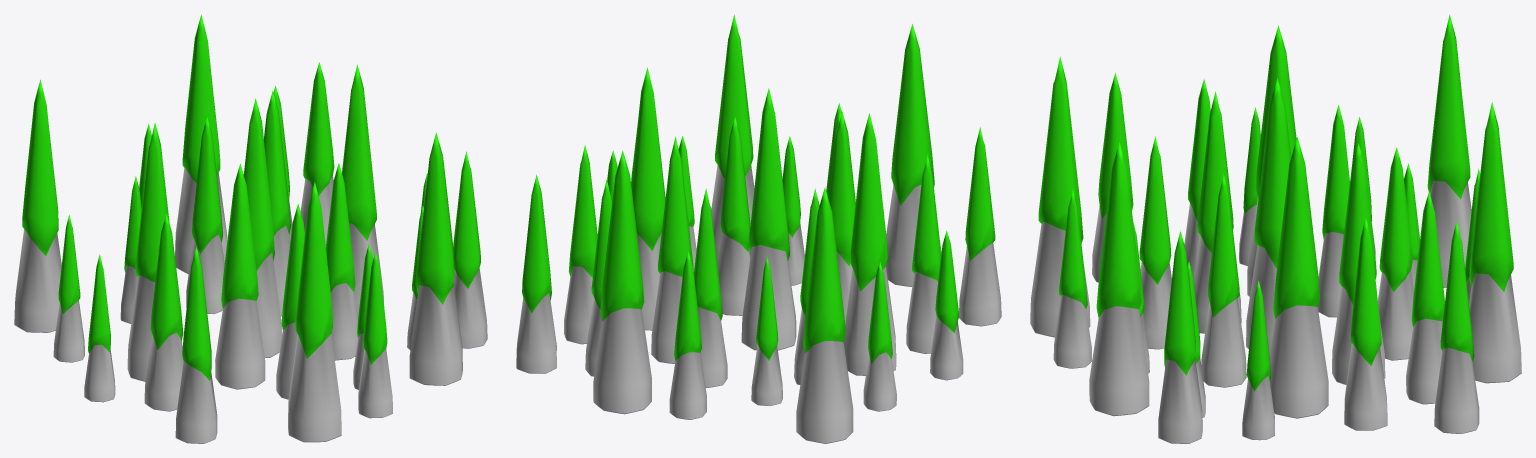
The model's file is Spikes.fbx.
3 renders of one model, left to right at view 1: azimuth 30°, elevation 25°; view 2: azimuth 150°, elevation 25°; view 3: azimuth 270°, elevation 25°, orthographic. The views are drawn at different scales.
Visible parts, largest first — view 1: Fang; view 2: Fang; view 3: Fang.
Boxes of the visible parts, bbox=[...] form: Fang: bbox=[14, 14, 487, 443]; Fang: bbox=[516, 14, 1001, 443]; Fang: bbox=[1030, 14, 1521, 443].
Bounding box in the file's own units: 90.64 × 59.6 × 98.52.
